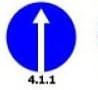road_sign: (7, 2, 75, 70)
